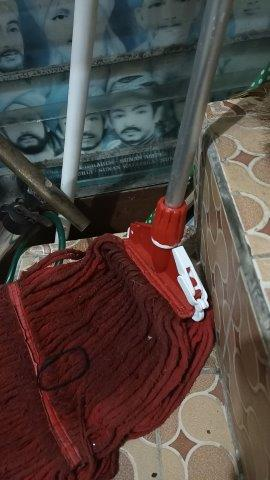karet: (36, 346, 89, 392)
